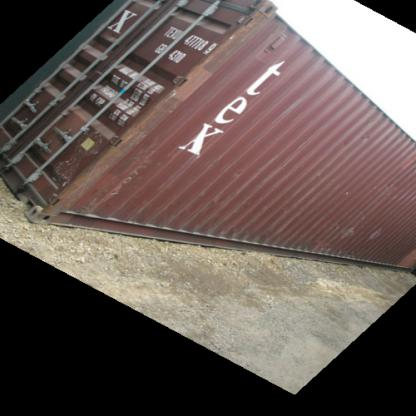Damage: (55, 124, 171, 221), (219, 0, 280, 58), (261, 191, 309, 234), (378, 173, 411, 203), (328, 214, 359, 244), (332, 177, 361, 198), (364, 222, 387, 246), (354, 120, 372, 142)
